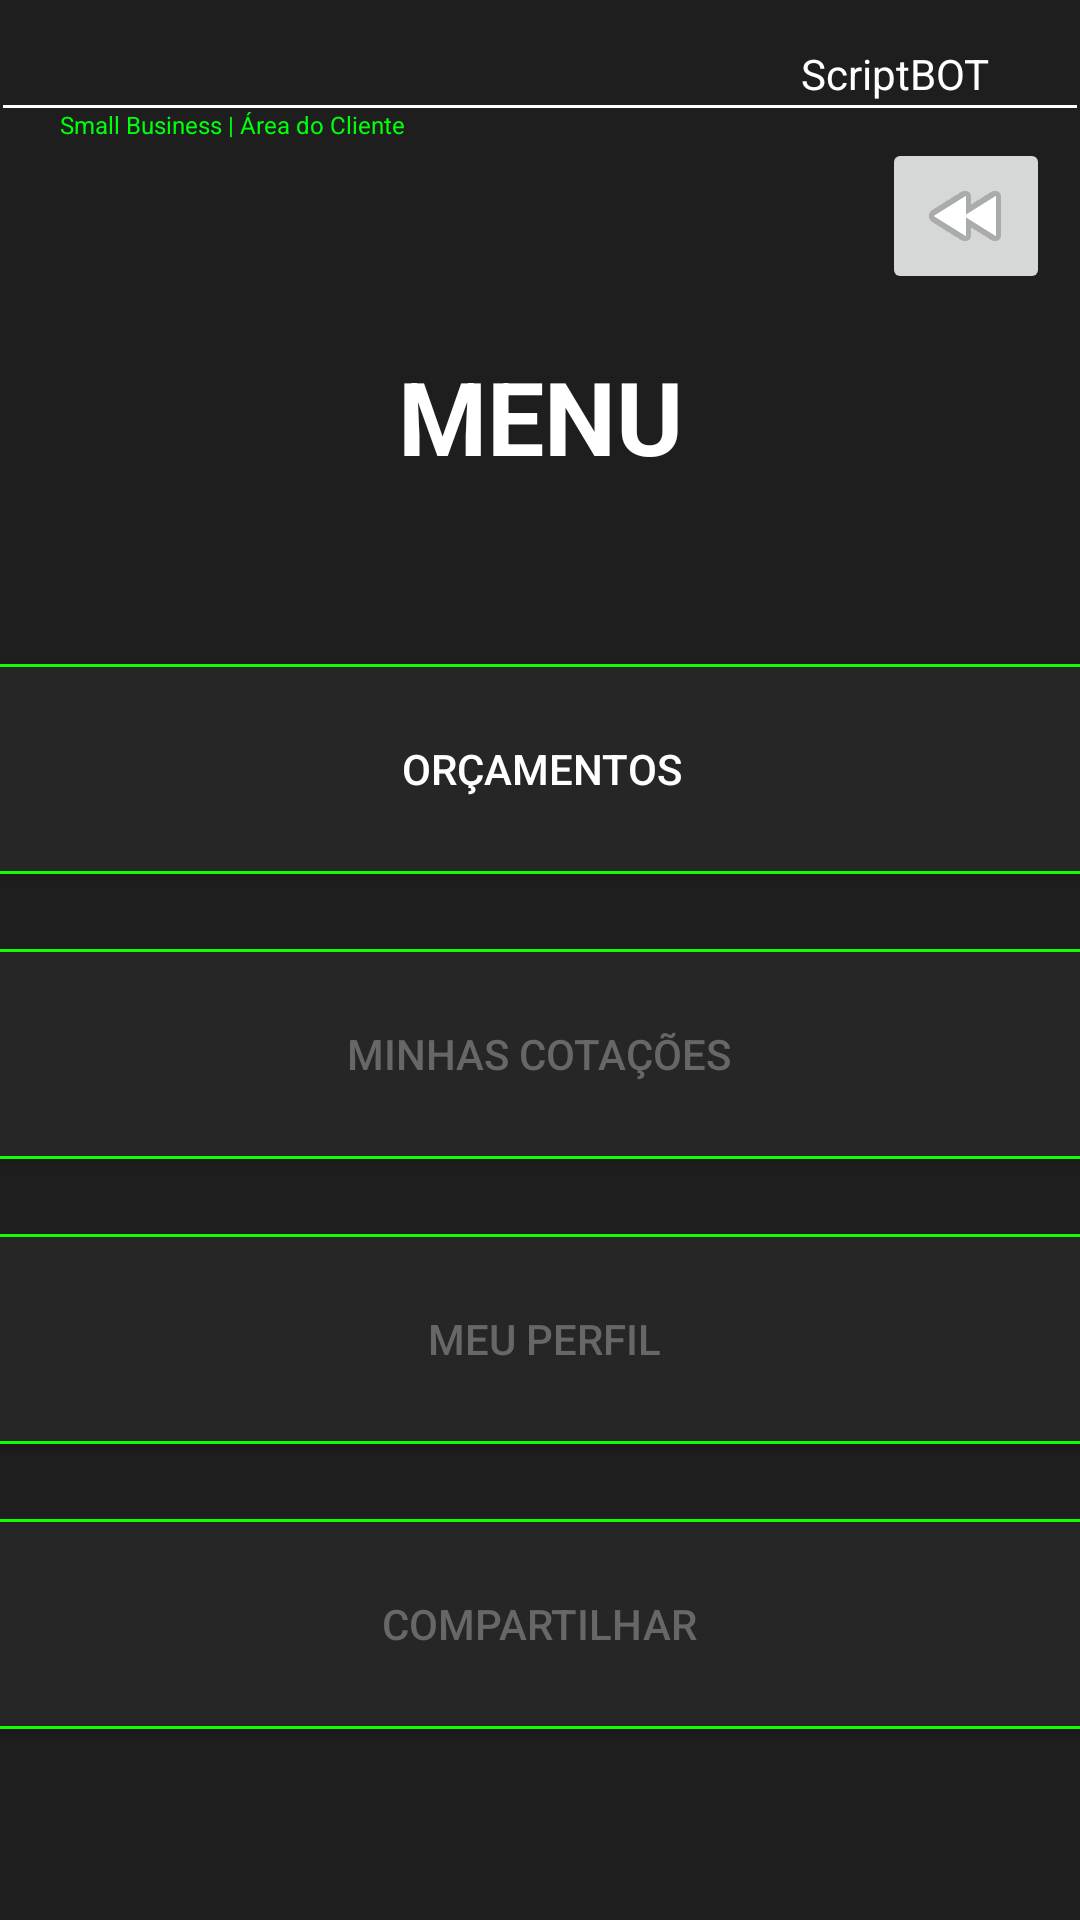

Point at icon controls on the screen. Image size 1080×1920, points as (x,y).
rew: (966,216)
